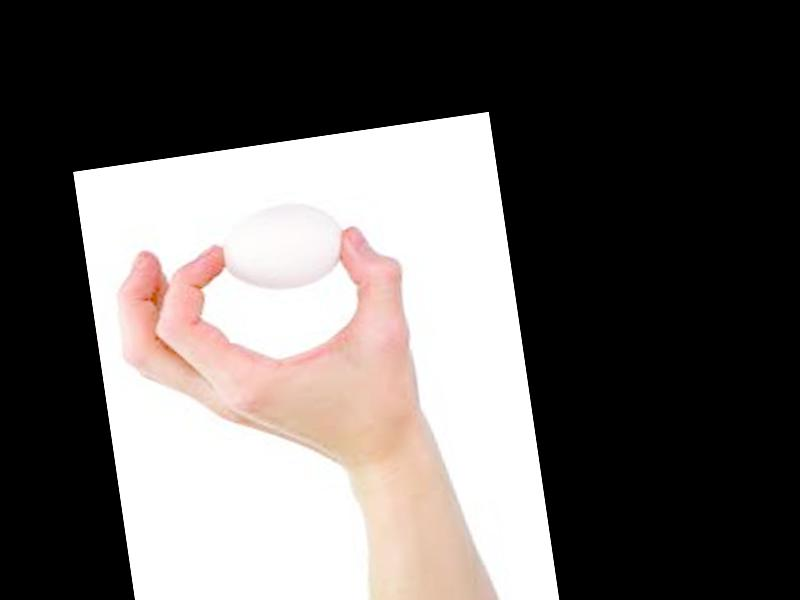Eggs: (216, 196, 348, 297)
